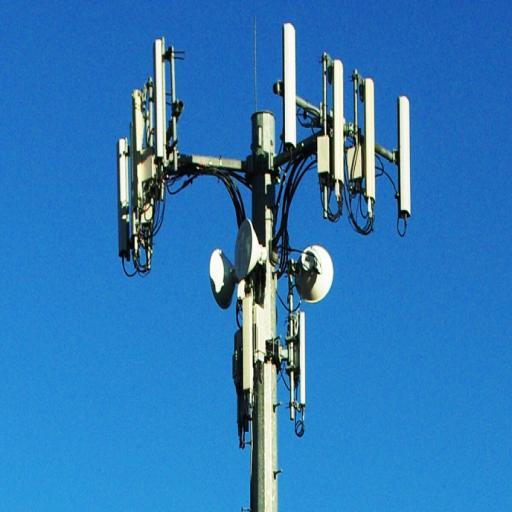monopole_tower: (116, 16, 411, 512)
